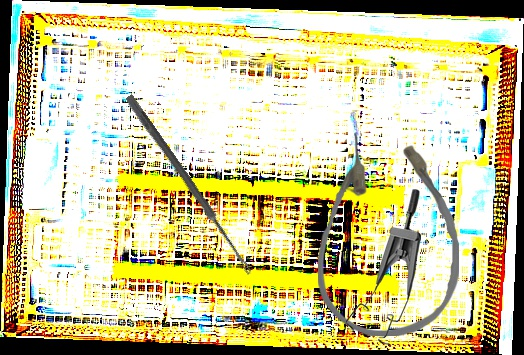Cannula: (318, 133, 459, 336)
Speculum: (346, 189, 421, 346)
Surgical Spoon: (123, 94, 256, 276)
